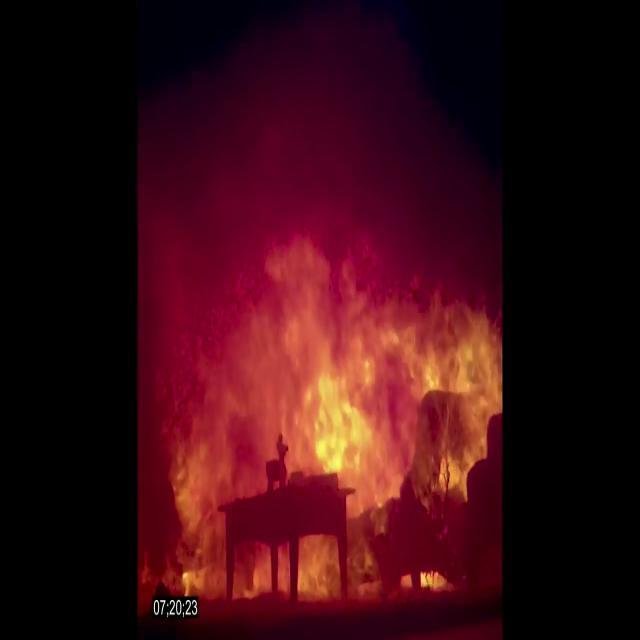Fire: (179, 214, 497, 596)
